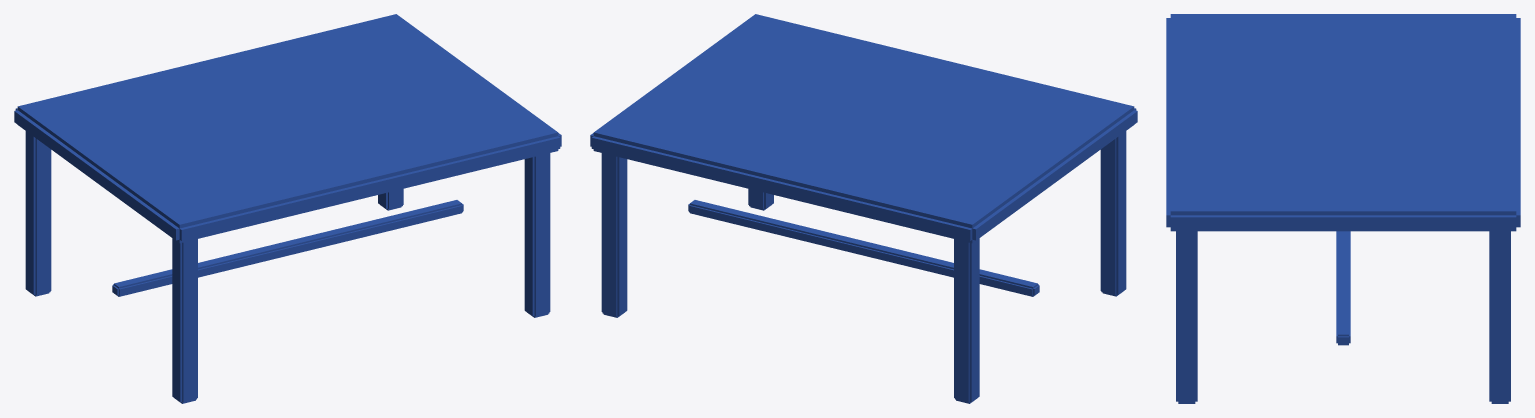
File: mushroom_table_v0.glb
The picture shows the model from 3 angles, left to right: view 1: azimuth 30°, elevation 25°; view 2: azimuth 150°, elevation 25°; view 3: azimuth 270°, elevation 25°; orthographic projection. The views are drawn at different scales.
Parts seen in each view (by area): view 1: mushroom_table_v0; view 2: mushroom_table_v0; view 3: mushroom_table_v0.
Boxes of the visible parts, x1,y1,x2,y2 form: mushroom_table_v0: [14, 14, 561, 403]; mushroom_table_v0: [590, 14, 1137, 403]; mushroom_table_v0: [1166, 14, 1520, 403].
Bounding box in the file's own units: 1.96 × 0.89 × 1.46.
